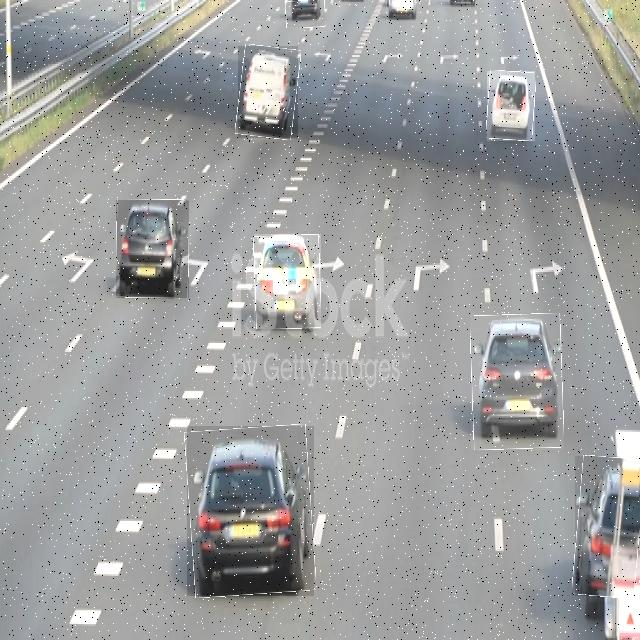Car: (187, 426, 314, 596), (471, 314, 563, 450), (575, 456, 640, 596), (116, 200, 189, 298), (254, 234, 321, 329), (487, 71, 535, 141), (285, 0, 325, 27)
Truck: (238, 46, 298, 138)
